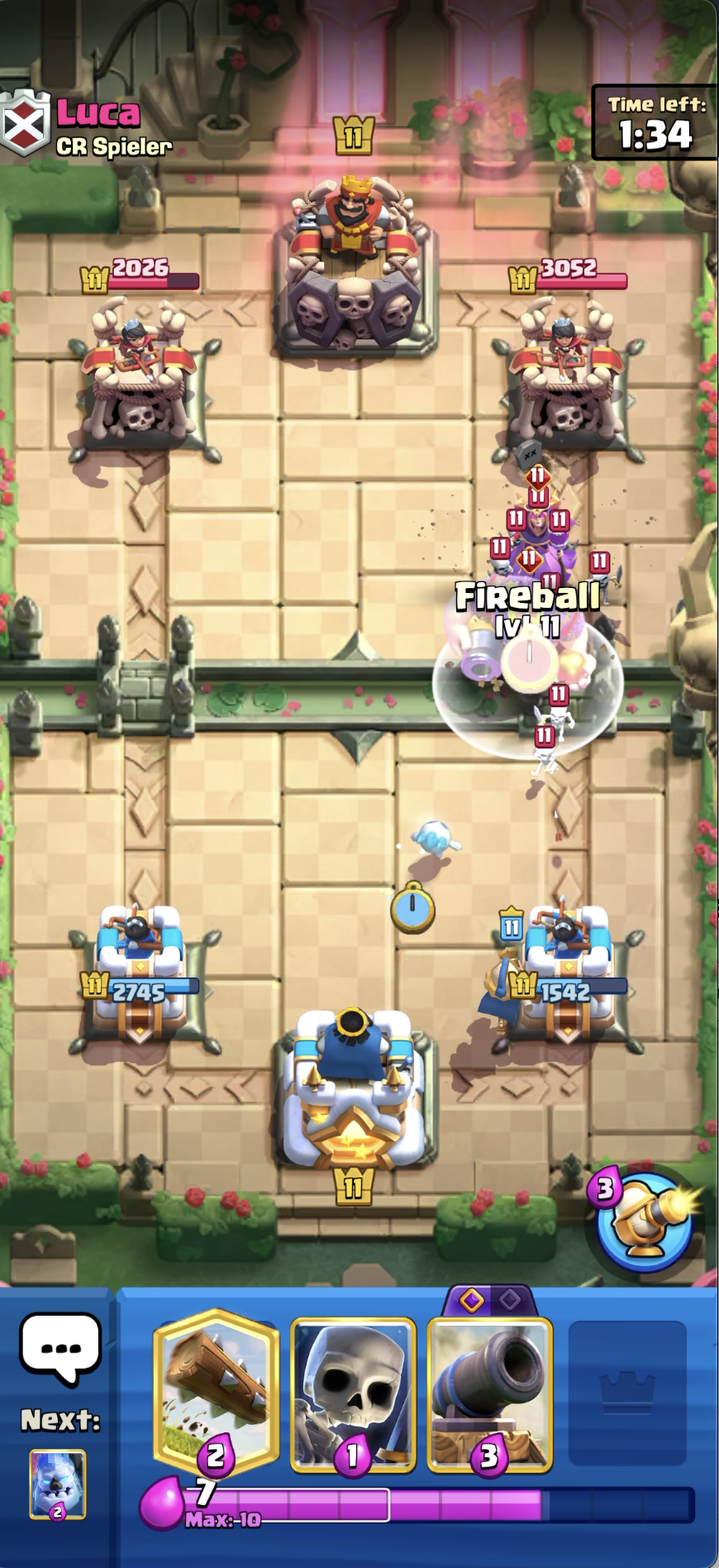ice-spirit: (404, 803, 472, 880)
